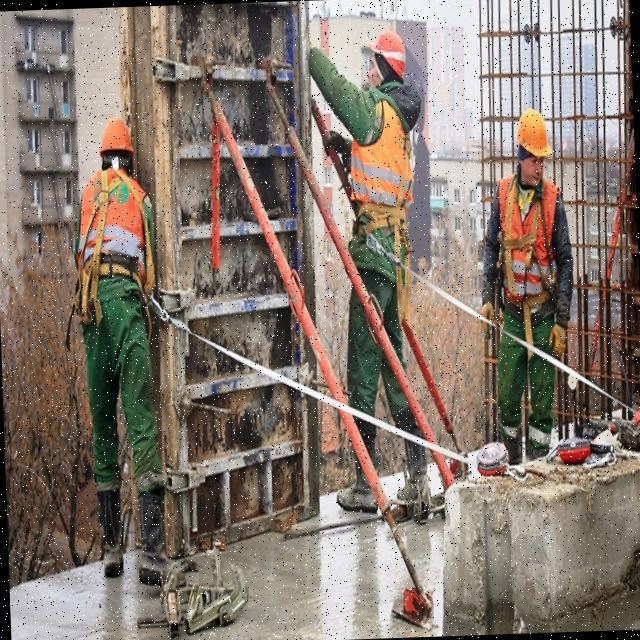Helmet: (514, 109, 553, 169), (97, 117, 136, 177), (364, 31, 406, 86)
Jacket: (499, 174, 559, 322), (353, 93, 412, 238), (86, 170, 146, 288)
